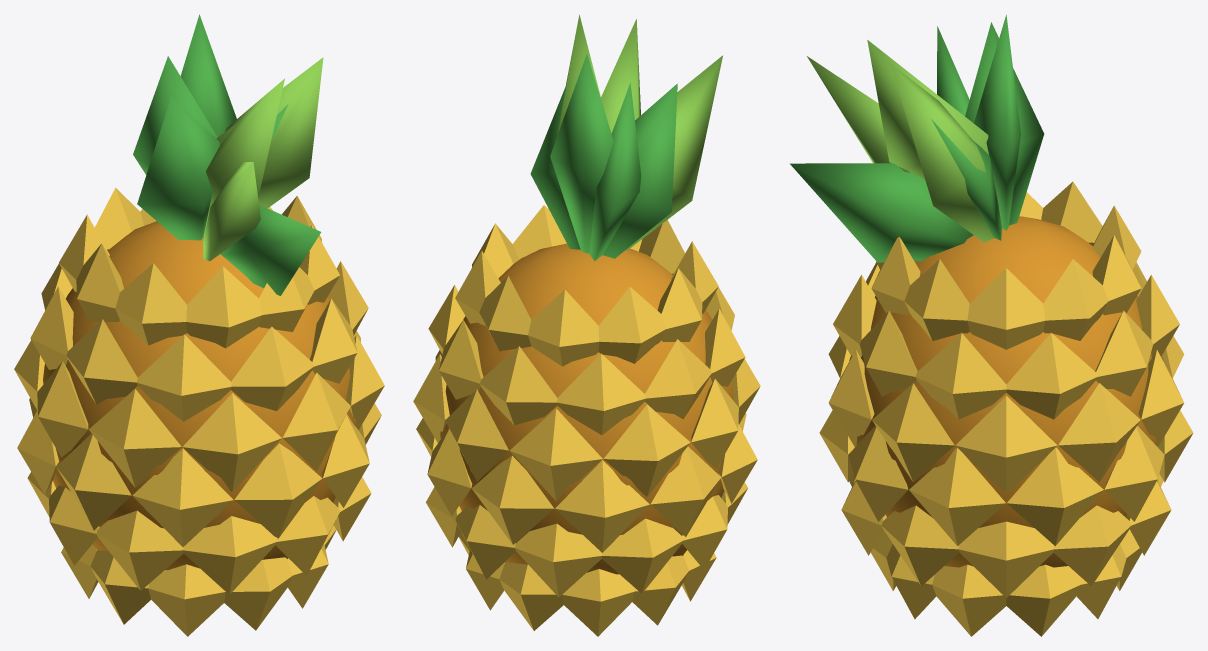
The model's file is pineapple.glb.
The picture shows the model from 3 angles, left to right: view 1: azimuth 30°, elevation 25°; view 2: azimuth 150°, elevation 25°; view 3: azimuth 270°, elevation 25°; orthographic projection. The views are drawn at different scales.
Visible parts, largest first — view 1: pineapple-pineapple, pineapple-groove, pineapple-leaf, pineapple-leafLight; view 2: pineapple-pineapple, pineapple-groove, pineapple-leaf, pineapple-leafLight; view 3: pineapple-pineapple, pineapple-leaf, pineapple-groove, pineapple-leafLight.
Part boxes in pixels (x1,y1,x2,y2): pineapple-pineapple: (14,187,384,636); pineapple-groove: (43,221,355,570); pineapple-leaf: (133,14,321,295); pineapple-leafLight: (203,57,323,261); pineapple-pineapple: (413,205,760,636); pineapple-groove: (440,243,733,574); pineapple-leaf: (530,54,677,261); pineapple-leafLight: (557,14,722,250); pineapple-pineapple: (819,181,1193,636); pineapple-leaf: (790,14,1044,262); pineapple-groove: (849,216,1163,567); pineapple-leafLight: (807,40,1001,242).
Bounding box in the file's own units: 1.5 × 2.55 × 1.62.
